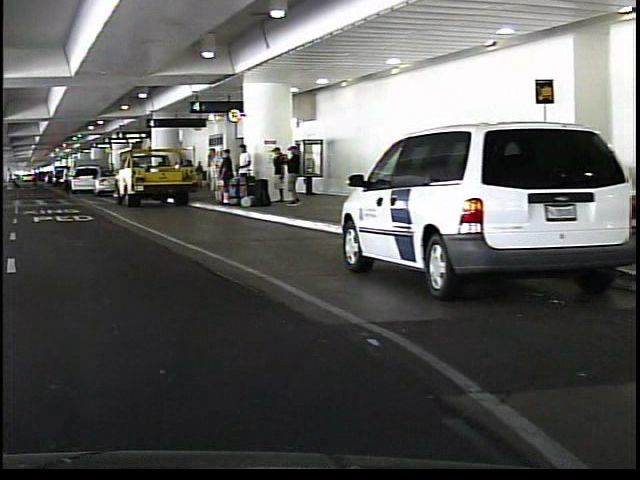person: (202, 142, 220, 204), (282, 143, 299, 207), (57, 163, 69, 195)
